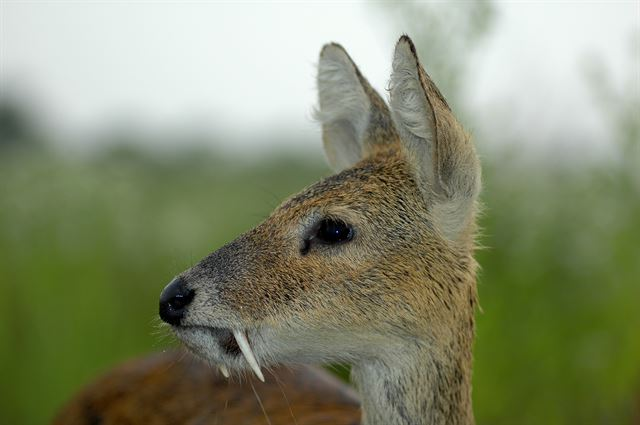elk: (160, 26, 491, 422)
